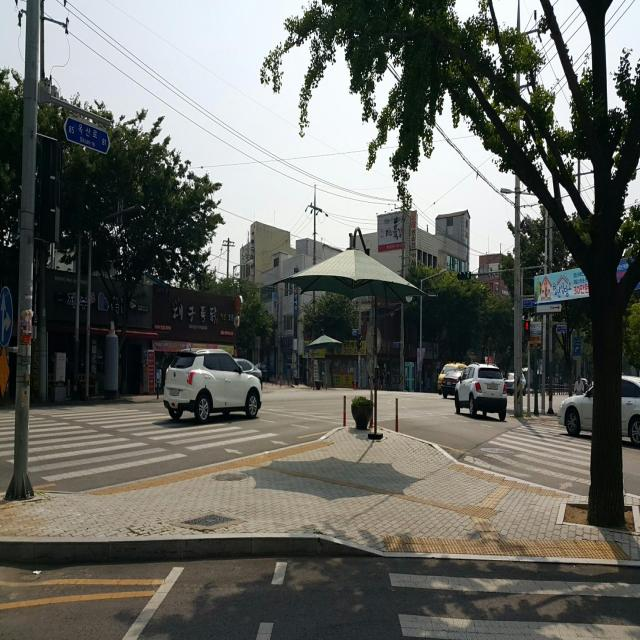빨간불: (523, 318, 530, 346)
횡단보도: (0, 406, 276, 482), (387, 571, 640, 640), (479, 422, 593, 502)
